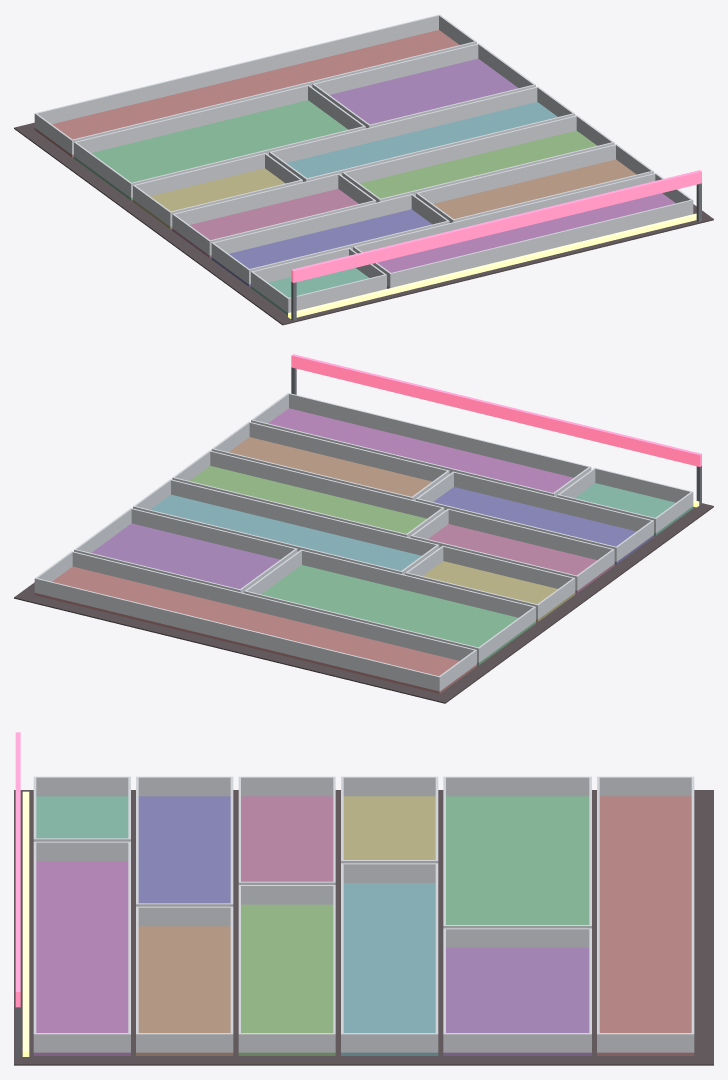
File: hall-machinists.glb
3 views of the same model, one above another, from view 1: azimuth 30°, elevation 25°; view 2: azimuth 150°, elevation 25°; view 3: azimuth 270°, elevation 25° (orthographic). The views are drawn at different scales.
Visible parts, largest first — view 1: Machinists; view 2: Machinists; view 3: Machinists.
Part boxes in pixels (left/top/right/bottom): Machinists: left=14, top=14, right=713, bottom=325; Machinists: left=14, top=354, right=713, bottom=703; Machinists: left=14, top=732, right=713, bottom=1065.
Bounding box in the file's own units: 38 × 4.3 × 41.
